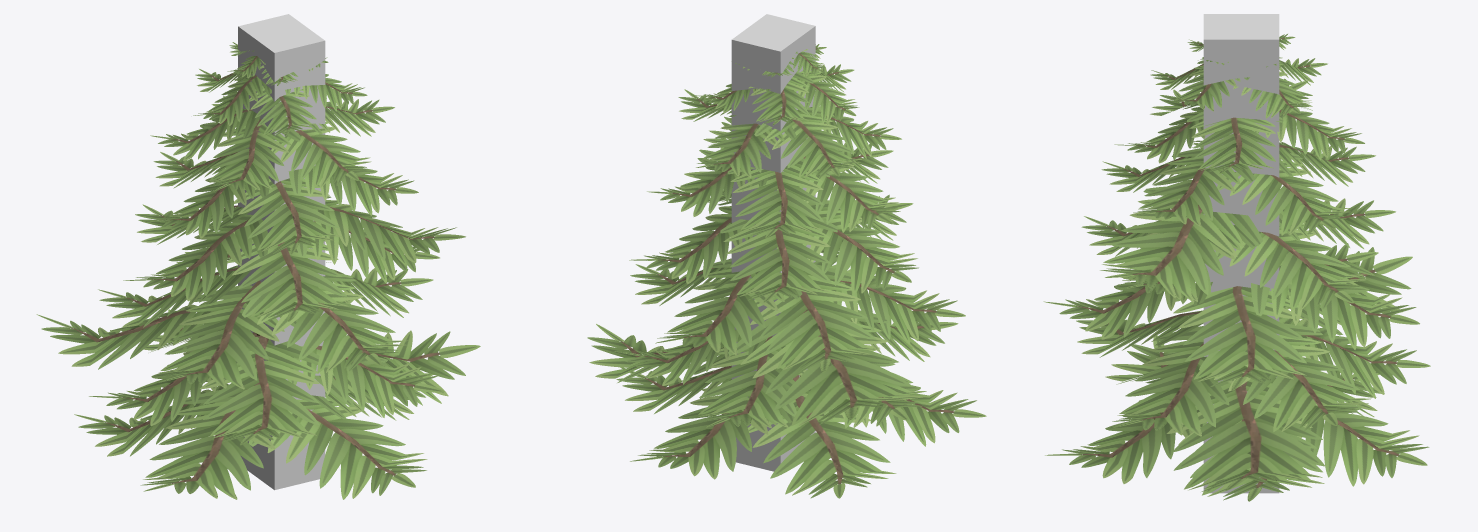
The model's file is pine_green_1.glb.
3 renders of one model, left to right at view 1: azimuth 30°, elevation 25°; view 2: azimuth 150°, elevation 25°; view 3: azimuth 270°, elevation 25°, orthographic. The views are drawn at different scales.
Visible parts, largest first — view 1: Pine_1, Cube.003; view 2: Pine_1, Cube.003; view 3: Pine_1, Cube.003.
Boxes of the visible parts, x1,y1,x2,y2 form: Pine_1: (36,42,480,499); Cube.003: (238,14,325,490); Pine_1: (587,44,986,498); Cube.003: (731,14,815,471); Pine_1: (1043,34,1430,501); Cube.003: (1203,14,1279,493).
Bounding box in the file's own units: 8.94 × 8.85 × 7.82.
2 materials, 2 textured.
